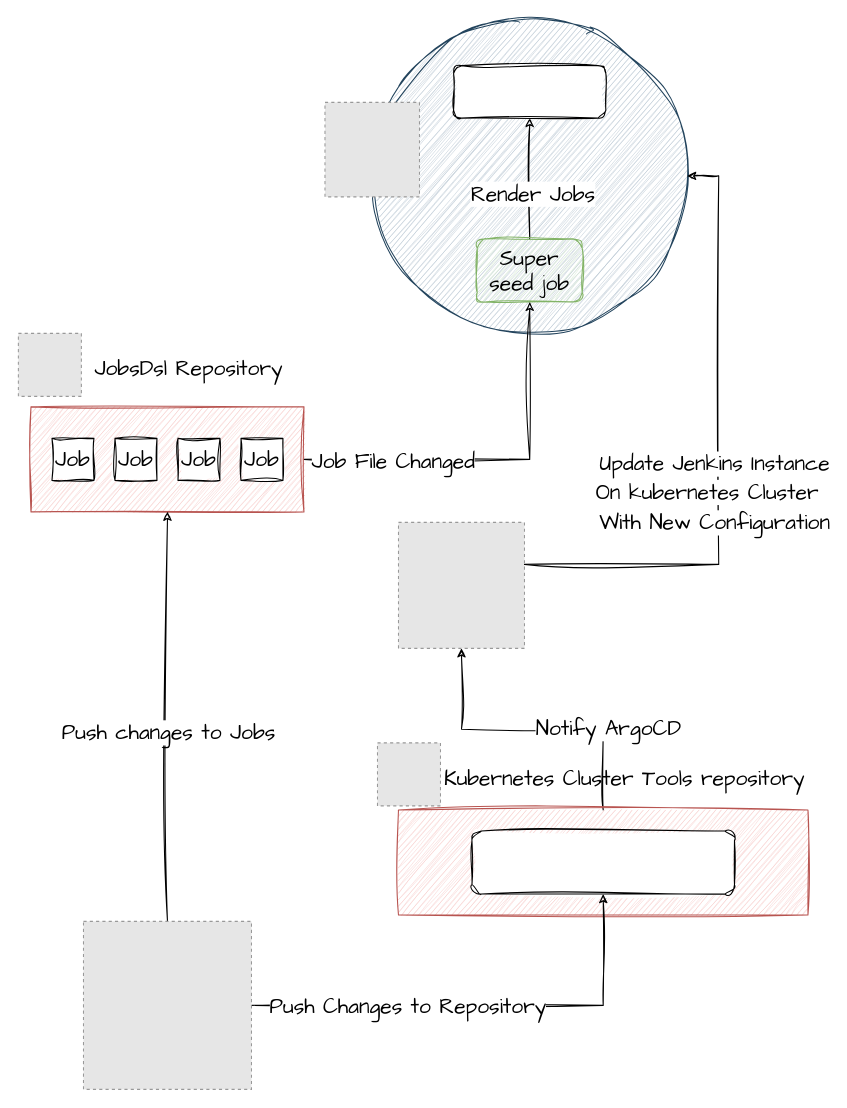
Image size: 847x1108. Some labels were removed from this diagram. Grey dashed boxes stand in for pictures. Here are the shapes that lost their labels. From the top down, the centre of each, then its label:
At (x=529, y=91): "Rendered Jobs".
At (x=602, y=862): "Jenkins helm Chart".
